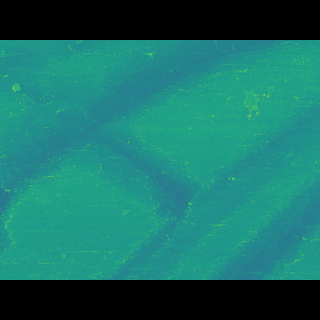Loch: (0, 69, 216, 165), (0, 142, 140, 233), (201, 177, 319, 250)
